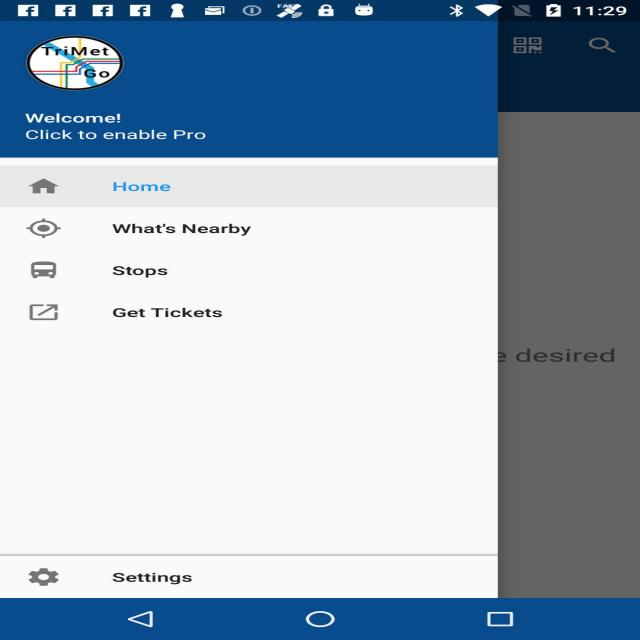button: (16, 168, 337, 328), (3, 542, 242, 598)
image: (4, 16, 176, 95)
text: (9, 105, 242, 147)
